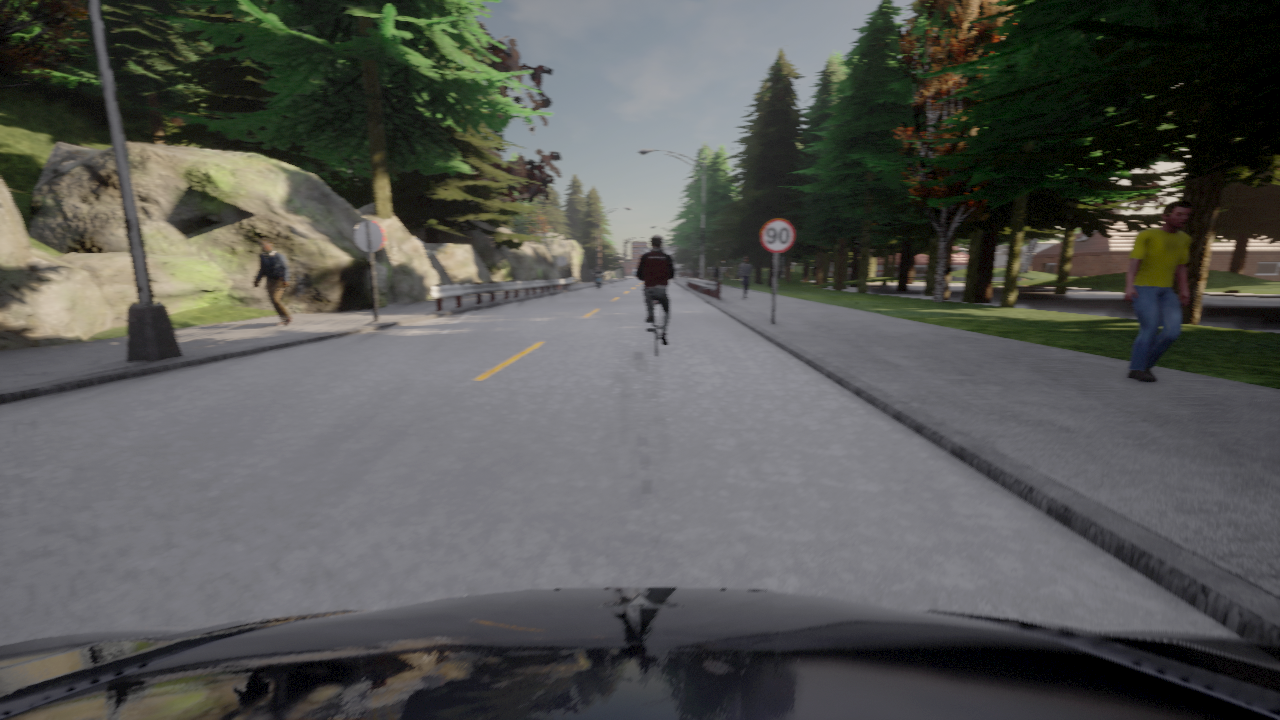cyclist: (0, 588, 1279, 719), (647, 300, 661, 355), (592, 273, 604, 290), (676, 273, 678, 274)
pedestrian: (1123, 200, 1192, 381), (253, 238, 291, 326), (737, 257, 752, 298)
